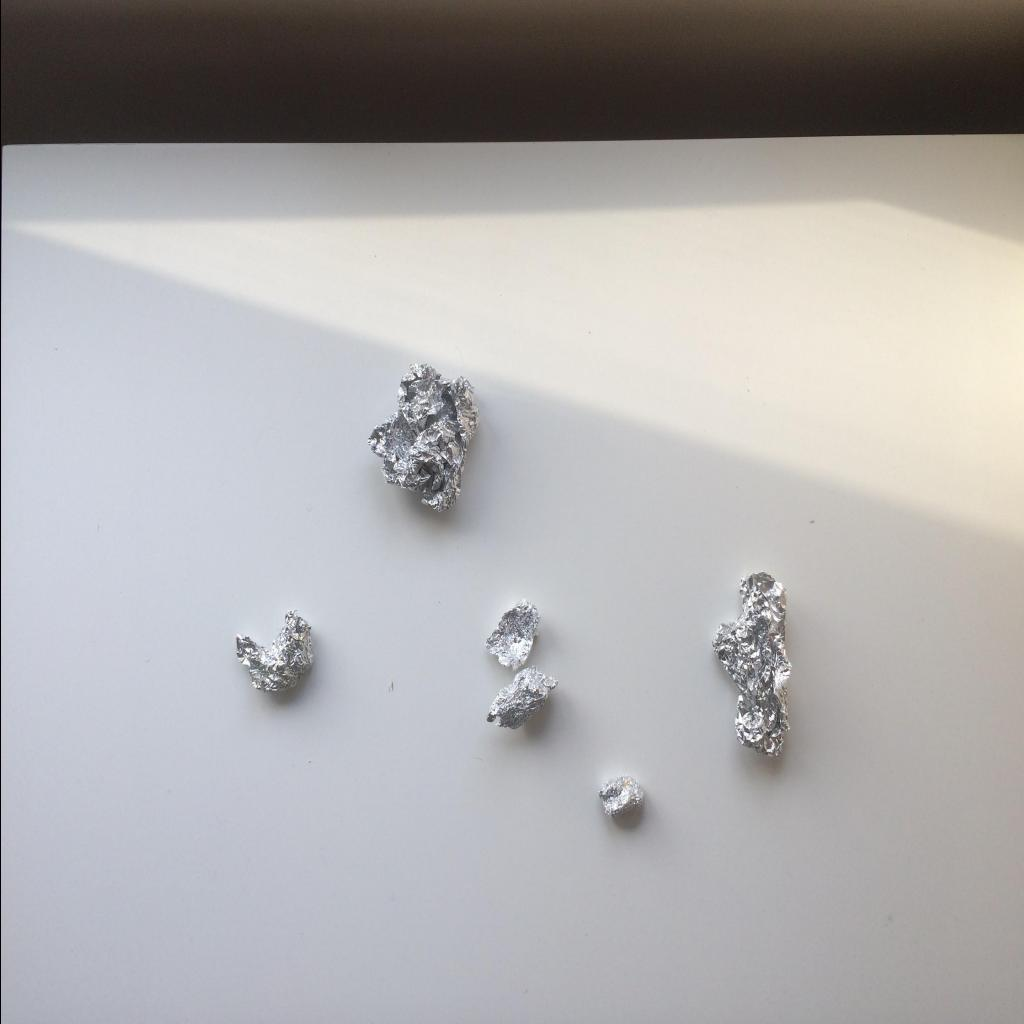Aluminium foil: (366, 363, 480, 513), (712, 571, 792, 759), (236, 610, 312, 692), (486, 664, 558, 730), (484, 598, 540, 672), (598, 774, 644, 818)
